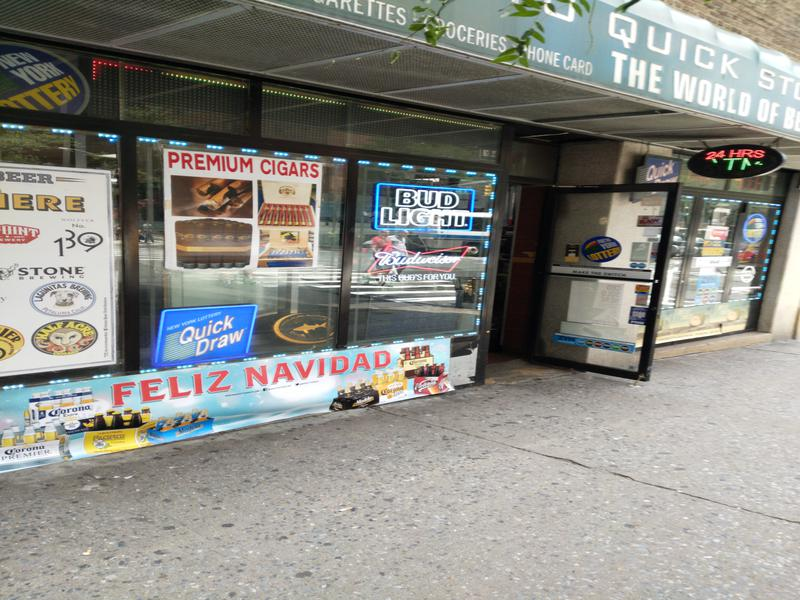door: (541, 175, 687, 392)
